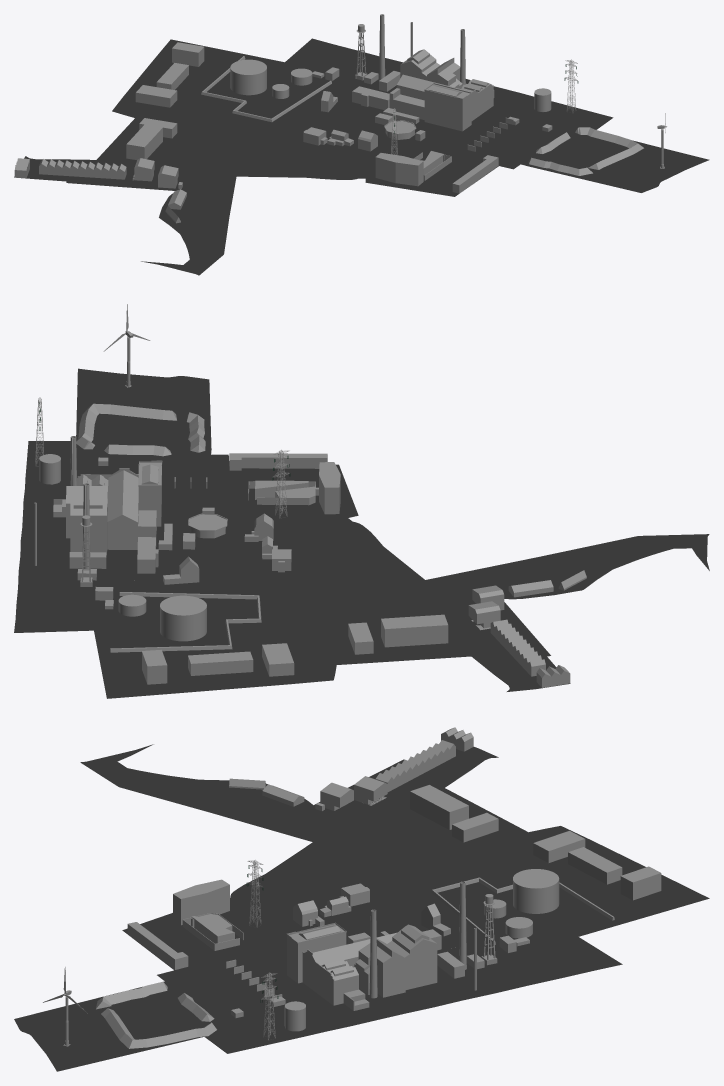
File: TransfoModelOptimized.9a8f4ec2.gltf
3 renders of one model, top to bottom at view 1: azimuth 30°, elevation 25°; view 2: azimuth 150°, elevation 25°; view 3: azimuth 270°, elevation 25°, orthographic. The views are drawn at different scales.
Visible parts, largest first — view 1: Ground, 271549, 271615, 271530, 271614, 101745, 271608, 271474, 271529, 271544, 271533, Mast2; view 2: Ground, 271549, 271615, 271530, 271614, 271608, 101745, 271544, 271474, 271529, 271533, Mast3 (+2 smaller); view 3: Ground, 271549, 271615, 271530, 271614, 101745, 271608, 271474, 271529, 271544, Mast3, 271545 (+2 smaller).
Part boxes in pixels (bbox=[...]): Ground: bbox=[14, 38, 709, 275]; 271549: bbox=[352, 29, 494, 131]; 271615: bbox=[126, 42, 204, 159]; 271530: bbox=[201, 56, 339, 122]; 271614: bbox=[14, 158, 182, 188]; 101745: bbox=[375, 151, 451, 186]; 271608: bbox=[528, 127, 643, 175]; 271474: bbox=[355, 14, 400, 91]; 271529: bbox=[303, 127, 377, 151]; 271544: bbox=[452, 155, 498, 193]; 271533: bbox=[384, 120, 416, 139]; Mast2: bbox=[564, 59, 578, 112]; Ground: bbox=[14, 368, 709, 698]; 271549: bbox=[53, 436, 172, 573]; 271615: bbox=[142, 614, 448, 684]; 271530: bbox=[95, 587, 261, 652]; 271614: bbox=[468, 585, 570, 687]; 271608: bbox=[76, 403, 205, 456]; 101745: bbox=[248, 462, 340, 514]; 271544: bbox=[229, 453, 327, 470]; 271474: bbox=[69, 483, 106, 586]; 271529: bbox=[244, 513, 291, 572]; 271533: bbox=[188, 513, 227, 538]; Mast3: bbox=[272, 449, 290, 518]; Ground: bbox=[14, 744, 709, 1071]; 271549: bbox=[286, 909, 441, 1010]; 271615: bbox=[410, 785, 661, 900]; 271530: bbox=[431, 869, 614, 952]; 271614: bbox=[315, 727, 473, 810]; 101745: bbox=[173, 879, 243, 950]; 271608: bbox=[96, 981, 216, 1048]; 271474: bbox=[437, 881, 497, 978]; 271529: bbox=[293, 883, 369, 926]; 271544: bbox=[127, 922, 188, 969]; Mast3: bbox=[246, 859, 263, 927]; 271545: bbox=[284, 1001, 305, 1031].
Bounding box in the file's own units: 477 × 58.79 × 421.
Materials: 185 (162 with a texture image).
